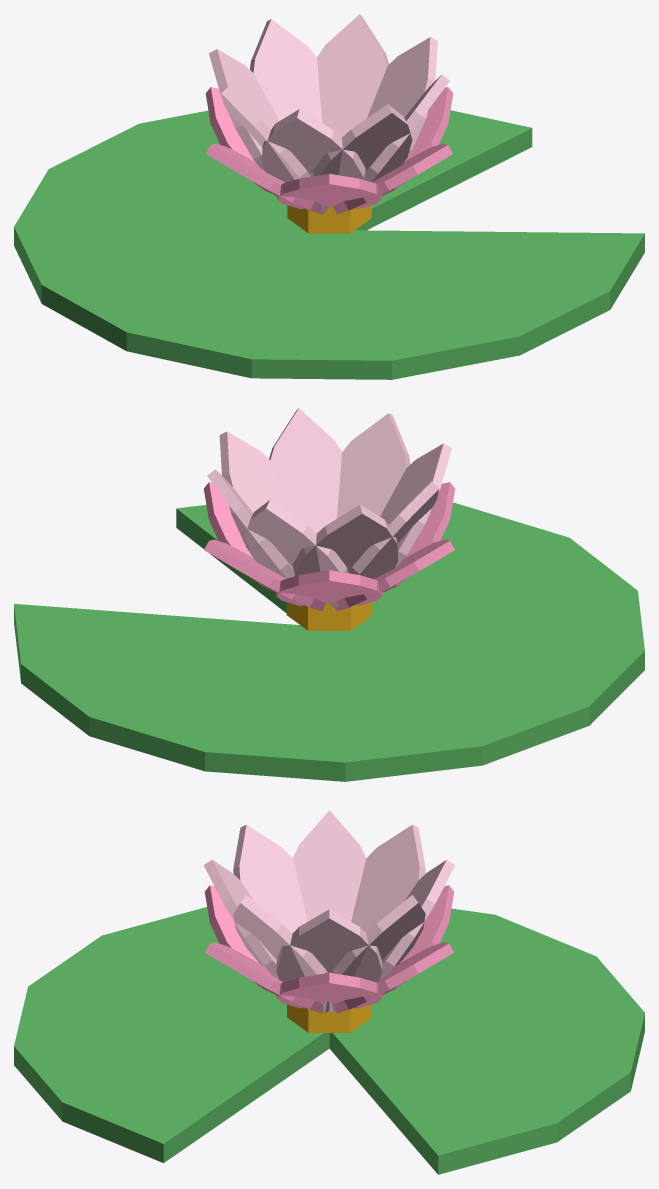
Rendered from Lotus.fbx.
3 renders of one model, top to bottom at view 1: azimuth 30°, elevation 25°; view 2: azimuth 150°, elevation 25°; view 3: azimuth 270°, elevation 25°, orthographic.
Parts seen in each view (by area): view 1: Lotus; view 2: Lotus; view 3: Lotus.
Boxes of the visible parts, <box> form: Lotus: <box>14,14,644,379</box>; Lotus: <box>14,408,644,781</box>; Lotus: <box>14,810,644,1174</box>.
Bounding box in the file's own units: 2.32 × 0.7868 × 2.38.
Materials: 1 (1 with a texture image).
